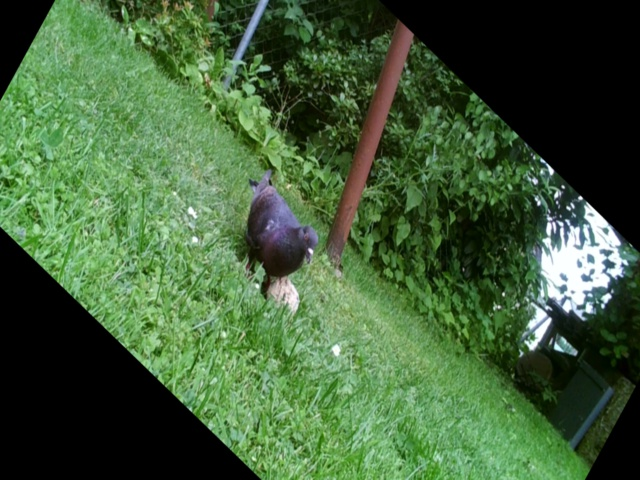Pigeon: (241, 165, 324, 305)
